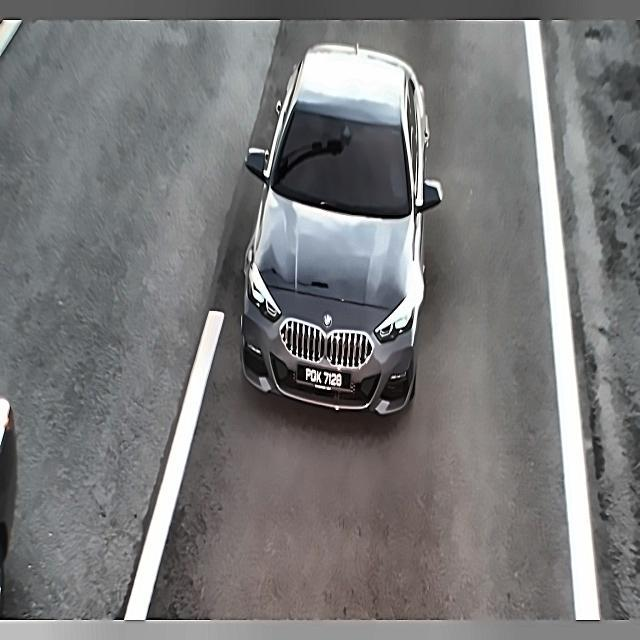car: (294, 359, 359, 396)
